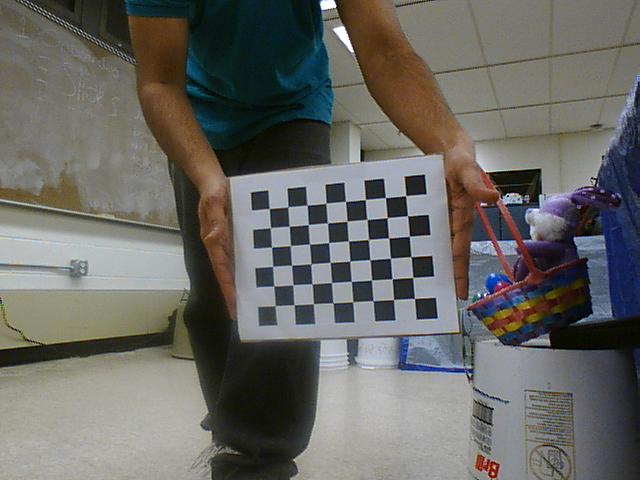bunny: (461, 159, 614, 347)
